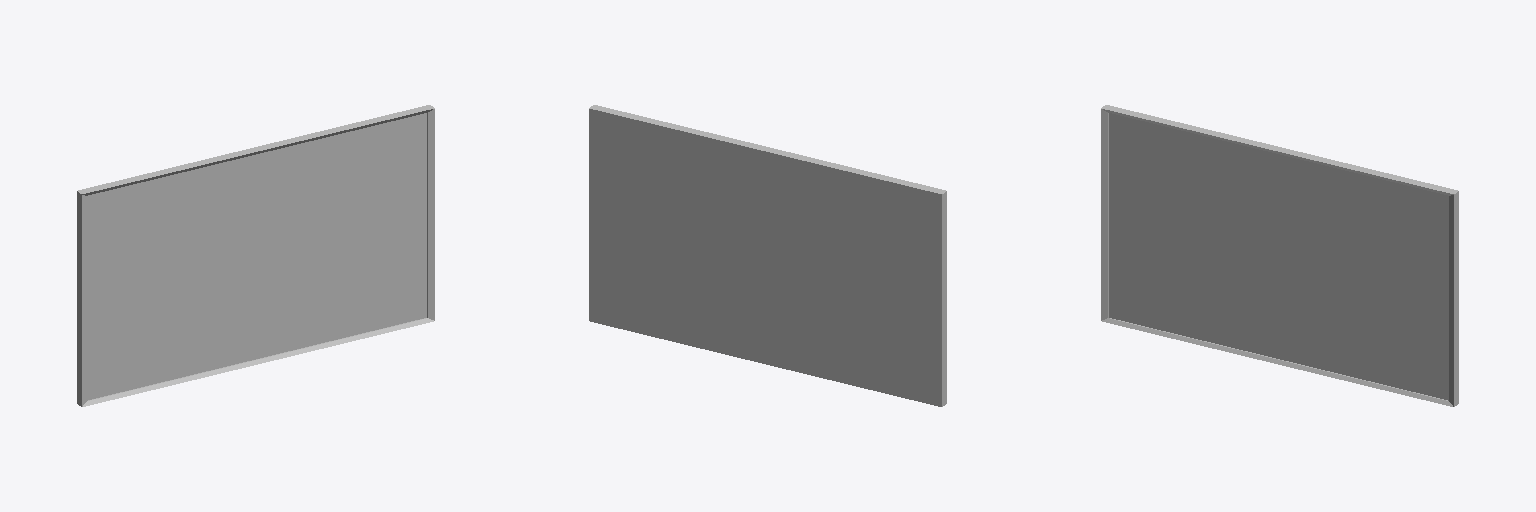
The model's file is pictureedge.obj.
The picture shows the model from 3 angles: view 1: azimuth 30°, elevation 25°; view 2: azimuth 150°, elevation 25°; view 3: azimuth 330°, elevation 25°; orthographic projection.
Parts seen in each view (by area): view 1: 立方体.036; view 2: 立方体.036; view 3: 立方体.036.
Boxes of the visible parts, x1=… form: 立方体.036: x1=77, y1=105, x2=434, y2=406; 立方体.036: x1=589, y1=105, x2=946, y2=406; 立方体.036: x1=1101, y1=105, x2=1458, y2=406.
Size of the model in its own units: 1.79 by 1.03 by 0.0457.